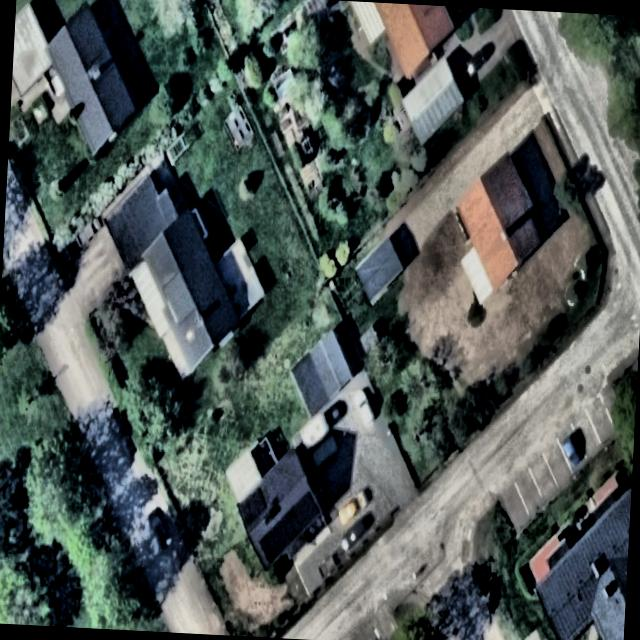roof_pv: (257, 487, 323, 564), (236, 484, 272, 530)
